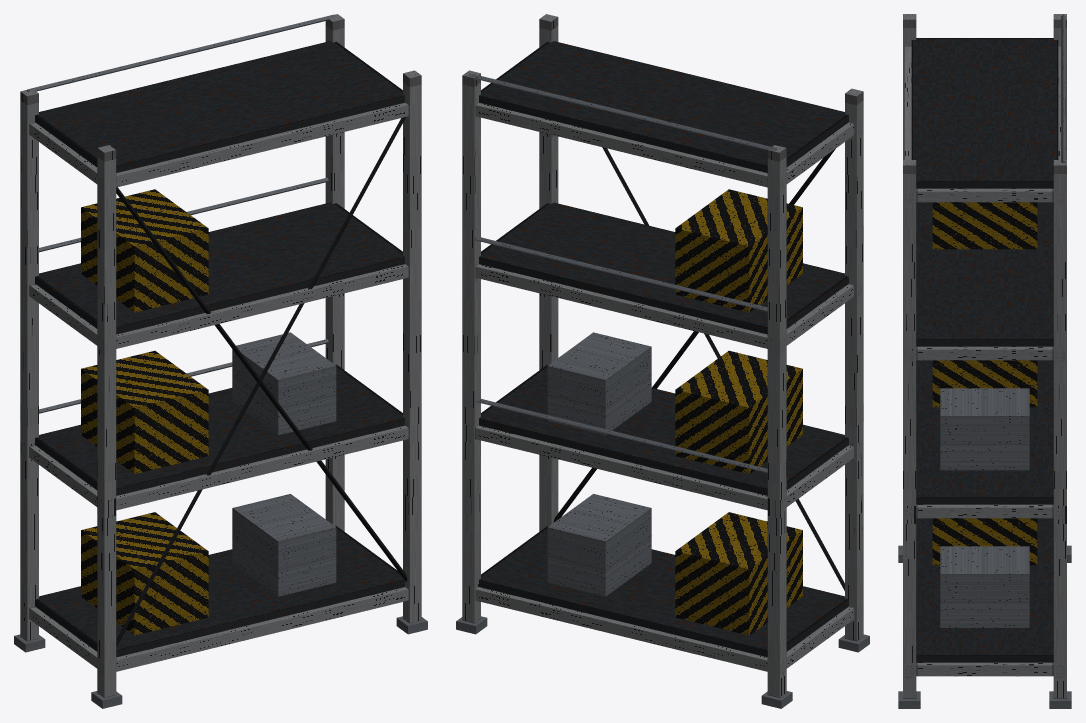
File: heavy_shelving_medbay_clean.glb
3 renders of one model, left to right at view 1: azimuth 30°, elevation 25°; view 2: azimuth 150°, elevation 25°; view 3: azimuth 270°, elevation 25°, orthographic. The views are drawn at different scales.
Parts seen in each view (by area): view 1: heavy_shelving_medbay_clean; view 2: heavy_shelving_medbay_clean; view 3: heavy_shelving_medbay_clean.
Boxes of the visible parts, x1,y1,x2,y2 form: heavy_shelving_medbay_clean: (14,14,427,708); heavy_shelving_medbay_clean: (456,14,869,708); heavy_shelving_medbay_clean: (898,14,1071,708).
Size of the model in its own units: 1.23 by 2.01 by 0.58.
4 materials, 4 textured.
